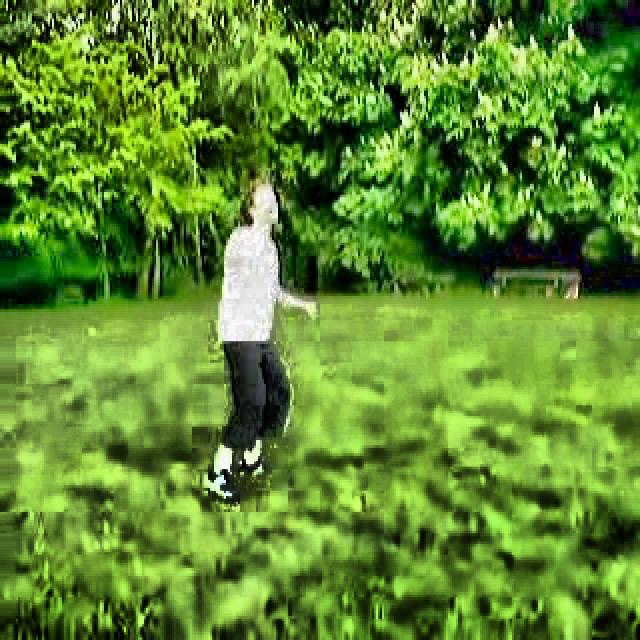T: (180, 153, 322, 515)
